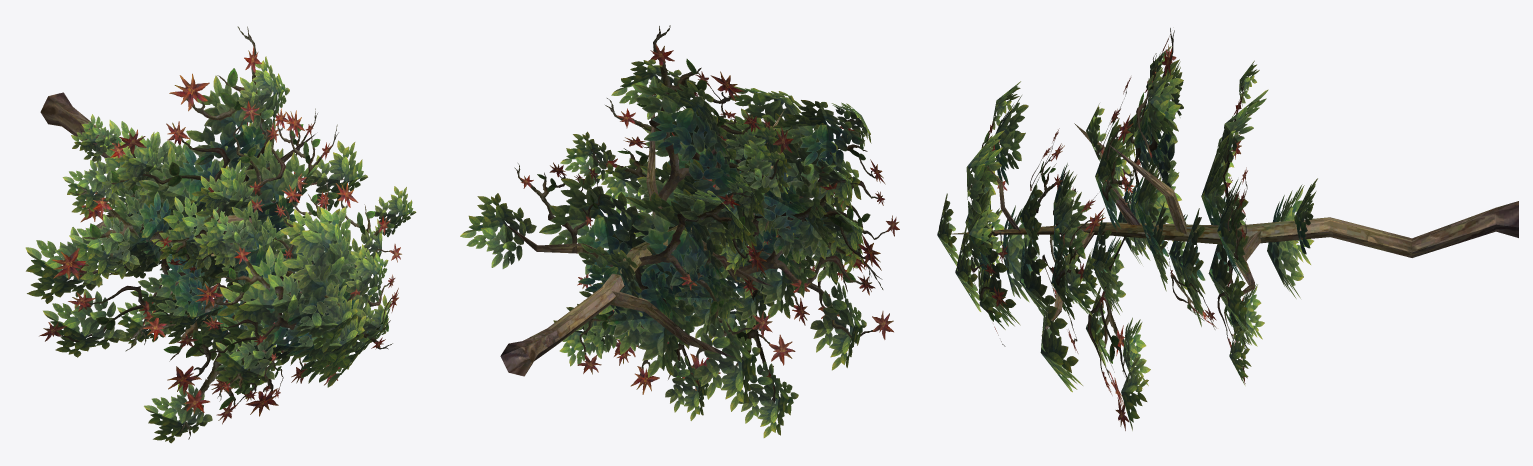
Rendered from citong.obj.
3 renders of one model, left to right at view 1: azimuth 30°, elevation 25°; view 2: azimuth 150°, elevation 25°; view 3: azimuth 270°, elevation 25°, orthographic. The views are drawn at different scales.
Visible parts, largest first — view 1: citong; view 2: citong; view 3: citong.
Part boxes in pixels (x1,y1,x2,y2): citong: [25, 26, 416, 443]; citong: [460, 25, 899, 437]; citong: [937, 28, 1518, 430].
Size of the model in its own units: 216 by 211 by 263.
2 materials, 2 textured.
